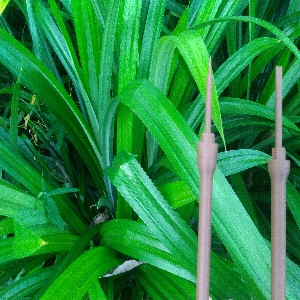obeng: (267, 65, 291, 300)
solder: (195, 54, 220, 300)
